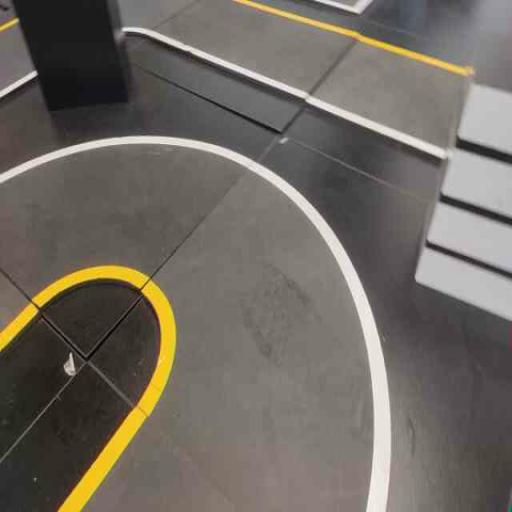left: (87, 131, 439, 511)
